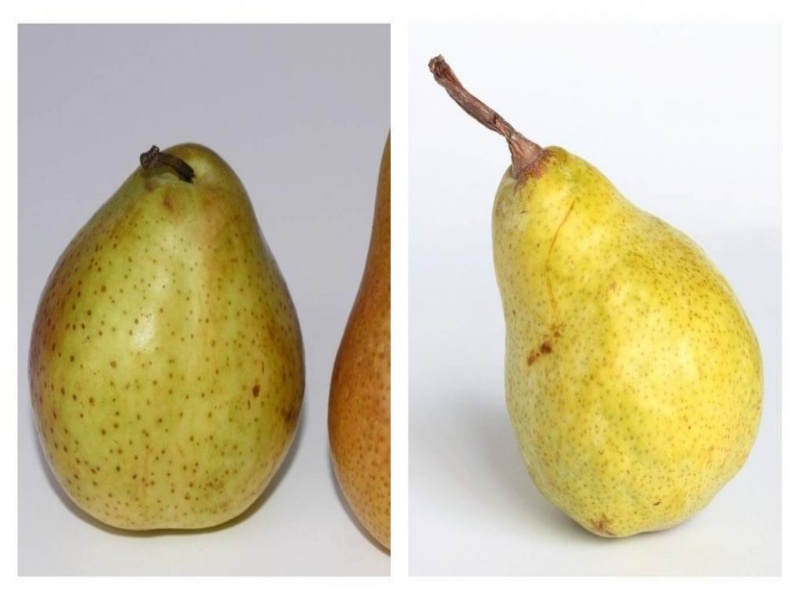Pera: (429, 55, 762, 538), (29, 142, 304, 534), (327, 128, 390, 546)
